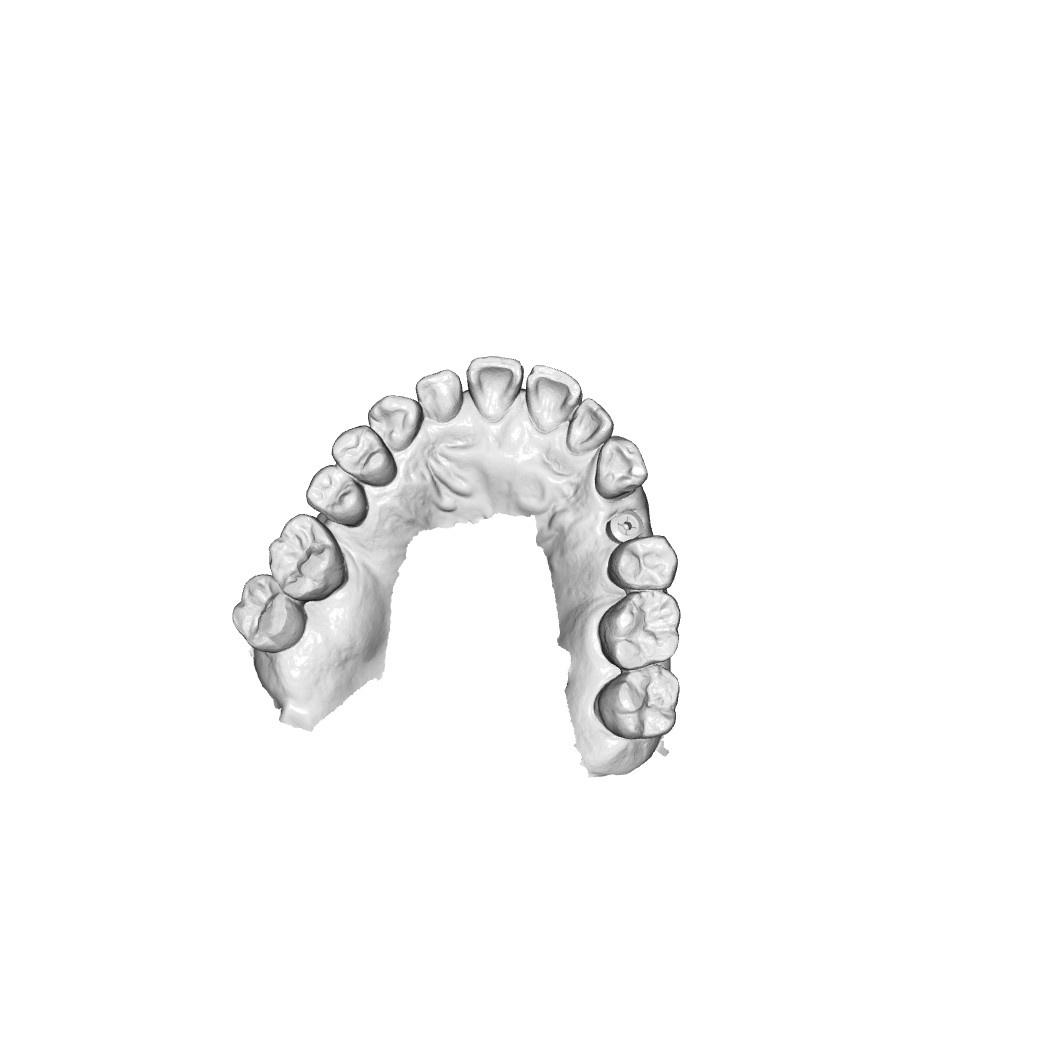canine: (369, 394, 423, 454), (598, 438, 646, 495)
implant_plus: (606, 509, 640, 540)
incisor: (524, 366, 581, 434), (467, 357, 522, 418), (416, 369, 465, 424), (564, 401, 610, 454)
molar: (265, 511, 348, 602), (595, 590, 685, 667), (229, 572, 309, 653), (594, 666, 682, 738)
premolar: (609, 534, 682, 597), (332, 428, 394, 482), (304, 468, 360, 519)
